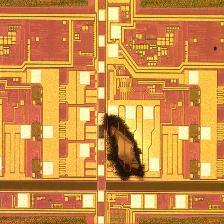PARTICLE: (101, 113, 149, 184)
